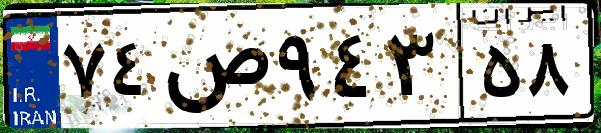3: (385, 28, 445, 110)
4: (330, 28, 385, 110), (110, 28, 158, 98)
5: (475, 38, 525, 113)
7: (57, 26, 110, 100)
8: (525, 38, 570, 115)
9: (270, 28, 330, 110)
ص: (158, 20, 270, 120)
